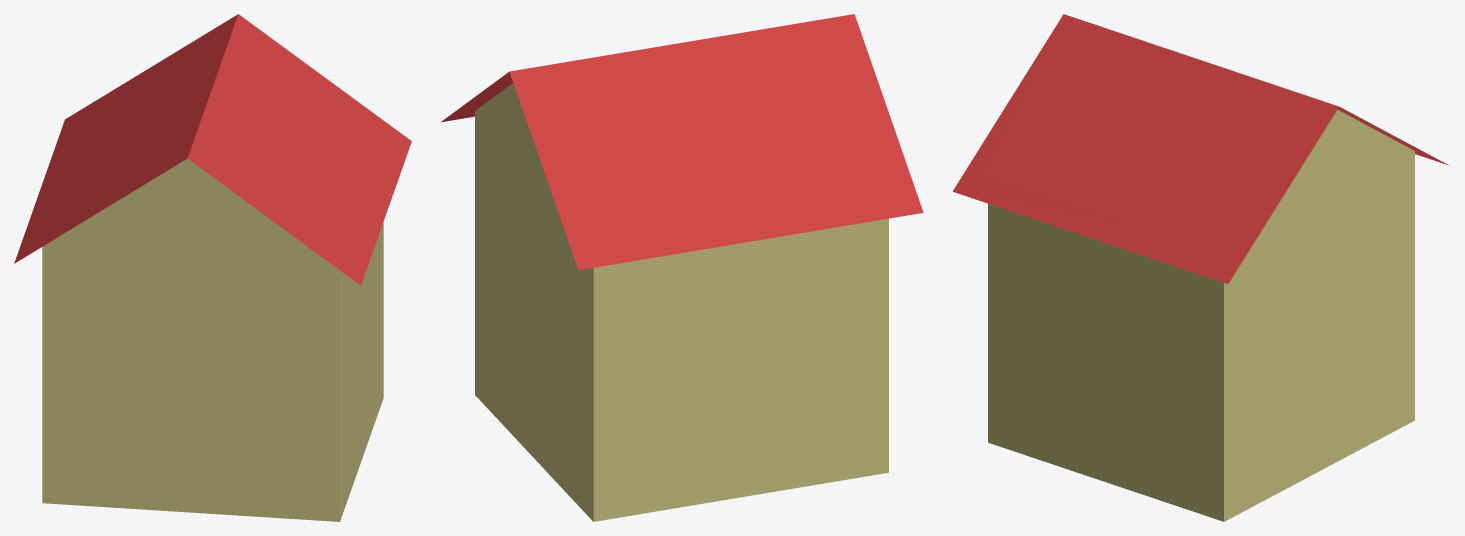
The picture shows the model from 3 angles, left to right: view 1: azimuth 30°, elevation 25°; view 2: azimuth 150°, elevation 25°; view 3: azimuth 270°, elevation 25°; orthographic projection. The views are drawn at different scales.
Visible parts, largest first — view 1: group_5, group_3, group_4; view 2: group_5, group_3, group_4; view 3: group_5, group_3, group_4.
Boxes of the visible parts, <box> form: group_5: <box>42,158,383,521</box>; group_3: <box>14,14,411,284</box>; group_4: <box>65,14,375,285</box>; group_5: <box>475,83,888,521</box>; group_3: <box>491,14,923,270</box>; group_4: <box>441,14,854,269</box>; group_5: <box>988,109,1414,521</box>; group_3: <box>954,14,1448,283</box>; group_4: <box>952,14,1442,237</box>.
Bounding box in the file's own units: 14.75 × 14.73 × 12.11.
